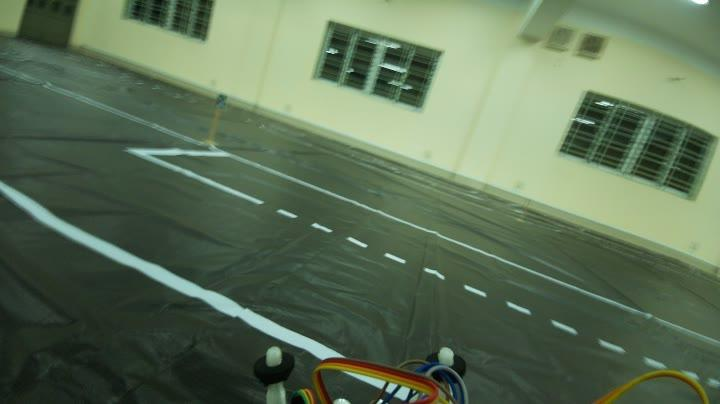highway_exit: (214, 90, 230, 112)
